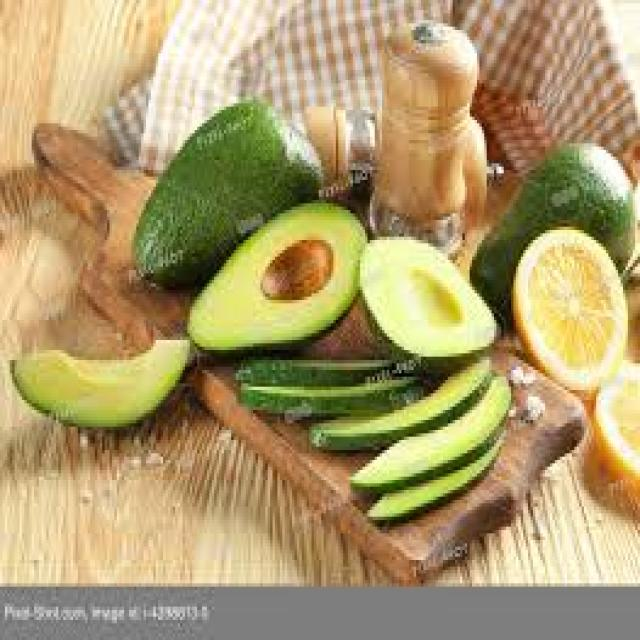avocado: (234, 354, 530, 523), (120, 90, 320, 283), (178, 184, 380, 326), (3, 321, 209, 450), (485, 134, 640, 258), (356, 223, 510, 345)
